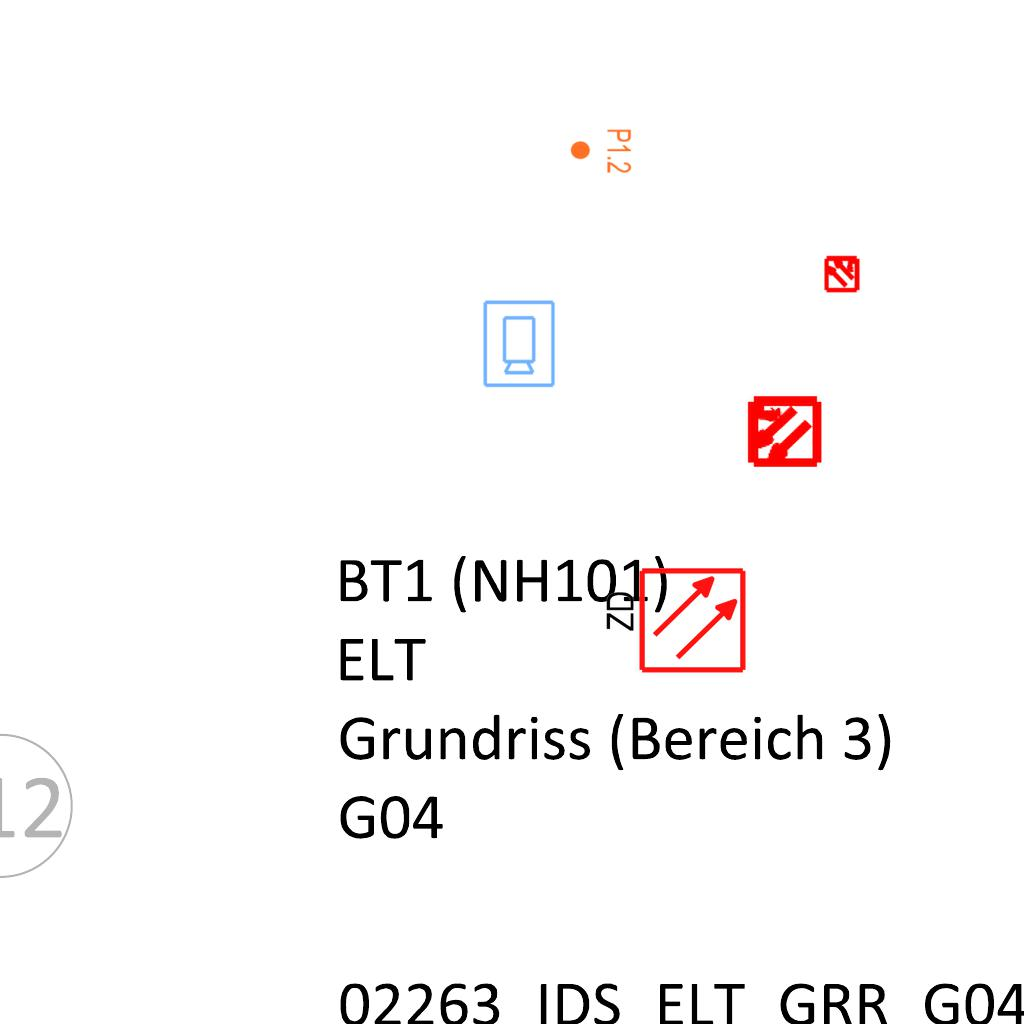Downlight_LED_Einbauleuchten_Flur: (569, 128, 633, 174)
KFO_Kamera_mit_Festobjektiv: (480, 298, 557, 389)
OT_Multisensormelder_(Kombination_RMO_WMD): (726, 375, 839, 488), (814, 245, 870, 301)
ZD_Melder_in_Zwischendecke_mit_Revisionsoeffnung_mind_40_x_40_cm: (599, 565, 748, 679)
